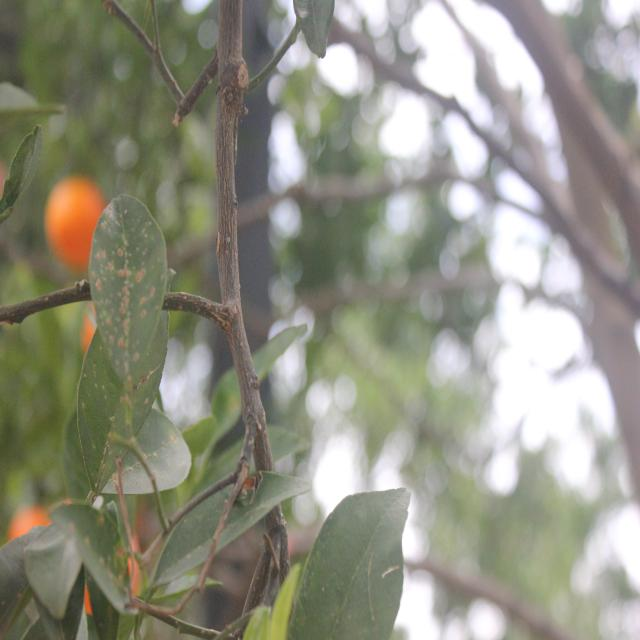canker: (88, 208, 162, 372), (85, 378, 155, 475), (61, 508, 129, 596)
